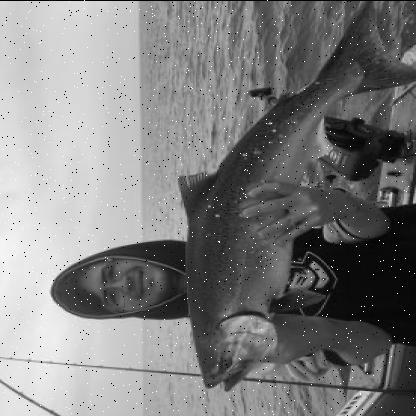fish: (176, 2, 410, 392)
